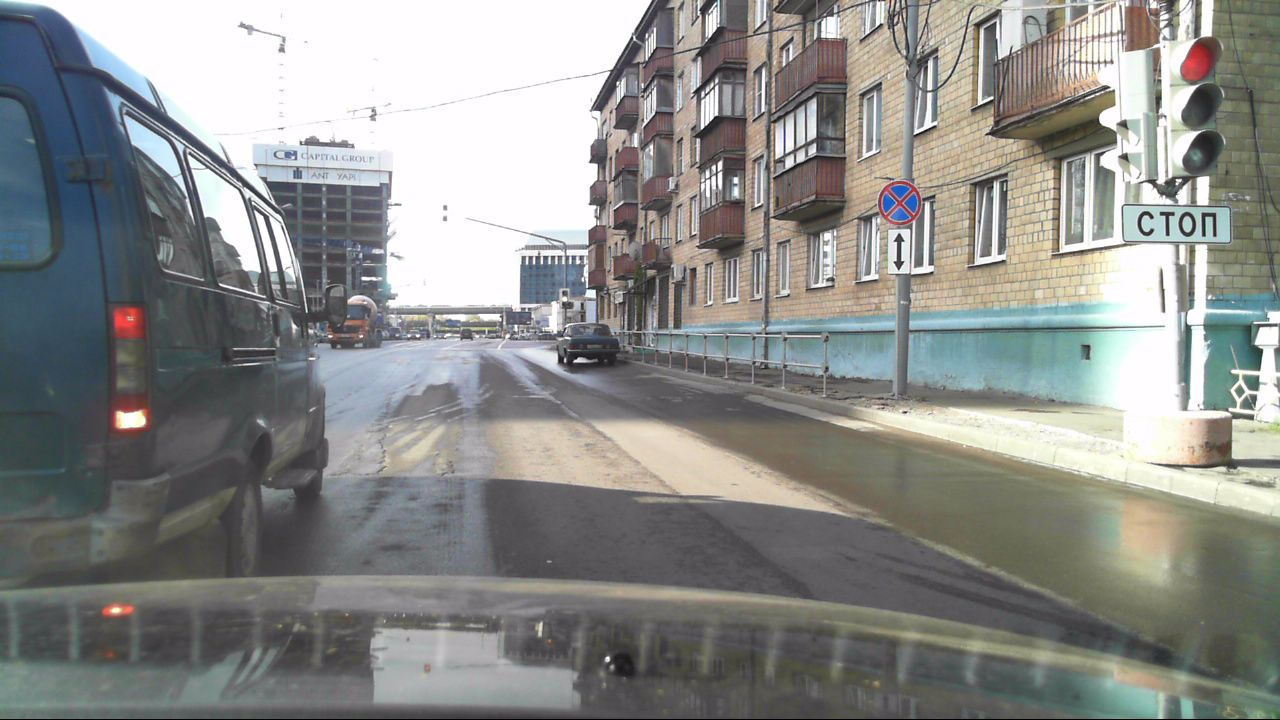No Parking: (880, 180, 924, 225)
